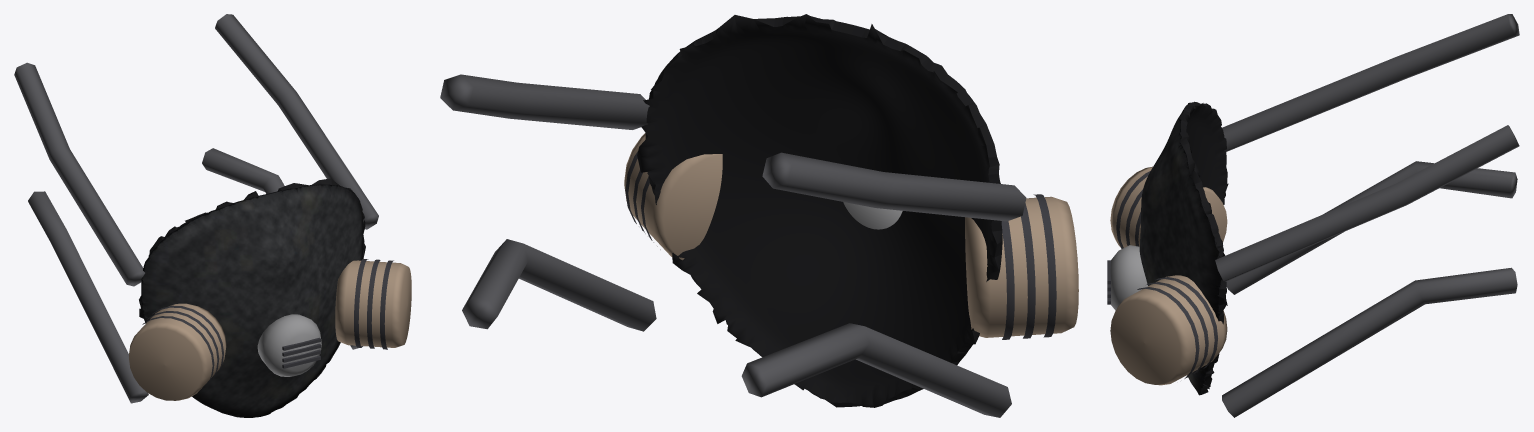
The model's file is ガスマスク_gasmask.glb.
3 renders of one model, left to right at view 1: azimuth 30°, elevation 25°; view 2: azimuth 150°, elevation 25°; view 3: azimuth 270°, elevation 25°, orthographic. The views are drawn at different scales.
Parts seen in each view (by area): view 1: gasmask; view 2: gasmask; view 3: gasmask.
Part boxes in pixels (x1,y1,x2,y2): gasmask: (14,14,411,417); gasmask: (440,14,1078,417); gasmask: (1107,14,1519,417).
Bounding box in the file's own units: 0.1987 × 0.1884 × 0.2201.
Materials: 5 (1 with a texture image).
